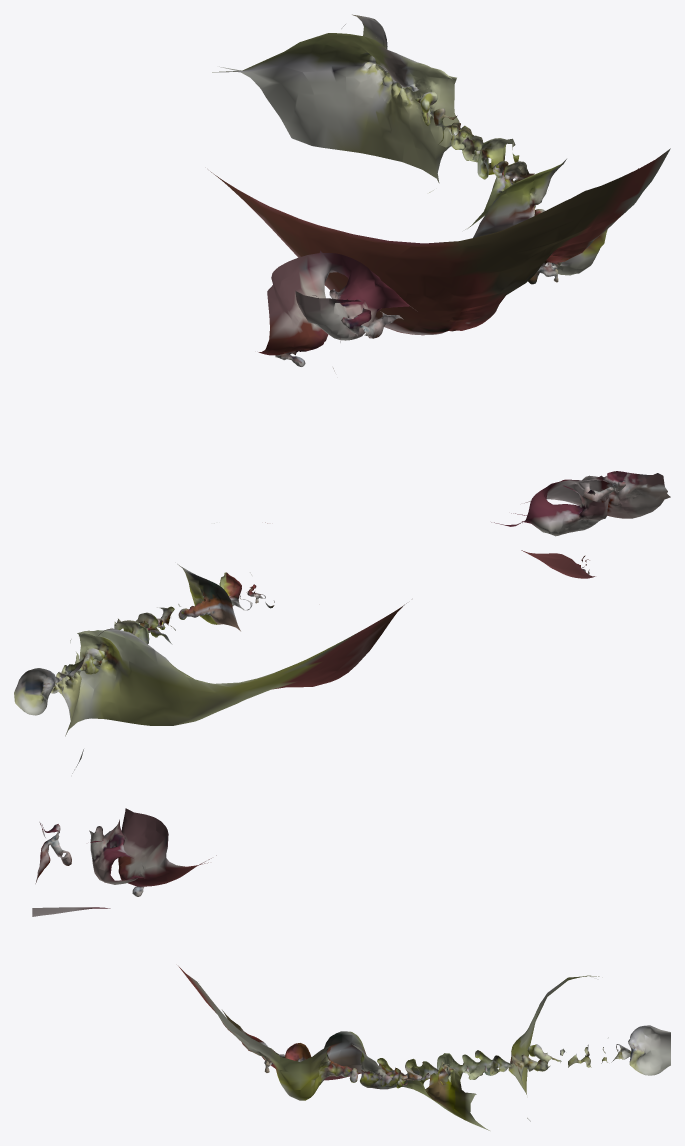
3 views of the same model, one above another, from view 1: azimuth 30°, elevation 25°; view 2: azimuth 150°, elevation 25°; view 3: azimuth 270°, elevation 25° (orthographic). The views are drawn at different scales.
Size of the model in its own units: 35.92 by 15 by 56.86.
